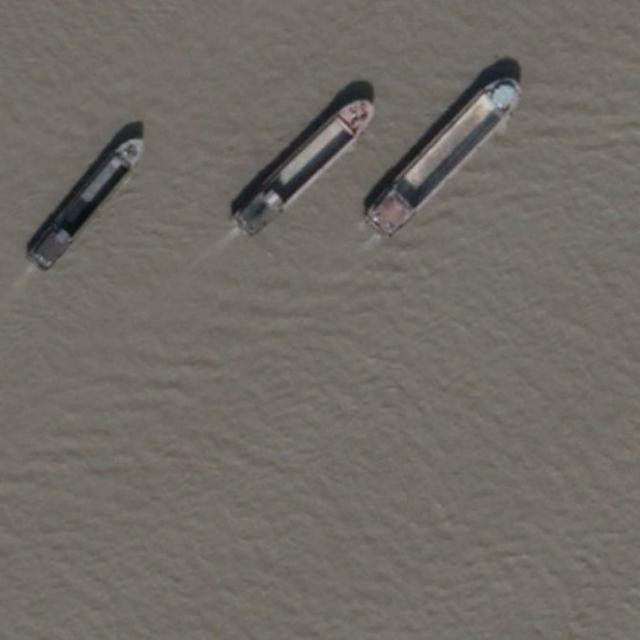ship: (364, 71, 530, 239), (230, 91, 382, 238), (25, 128, 151, 272)
